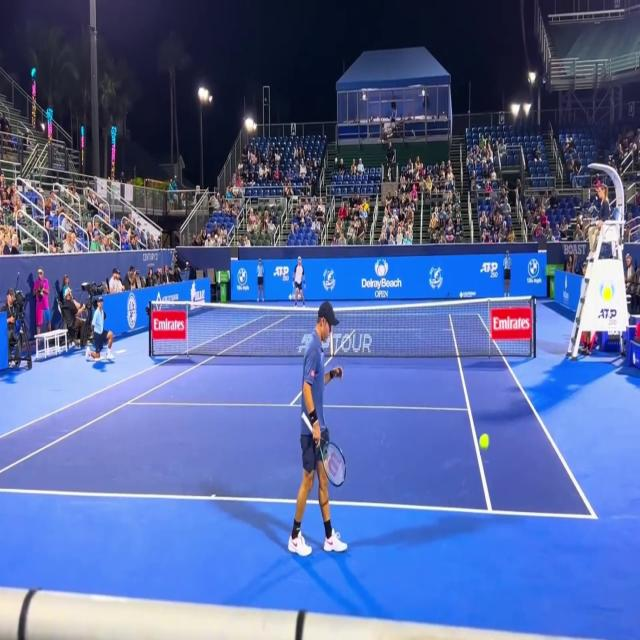tennisBall: (474, 432, 492, 453)
